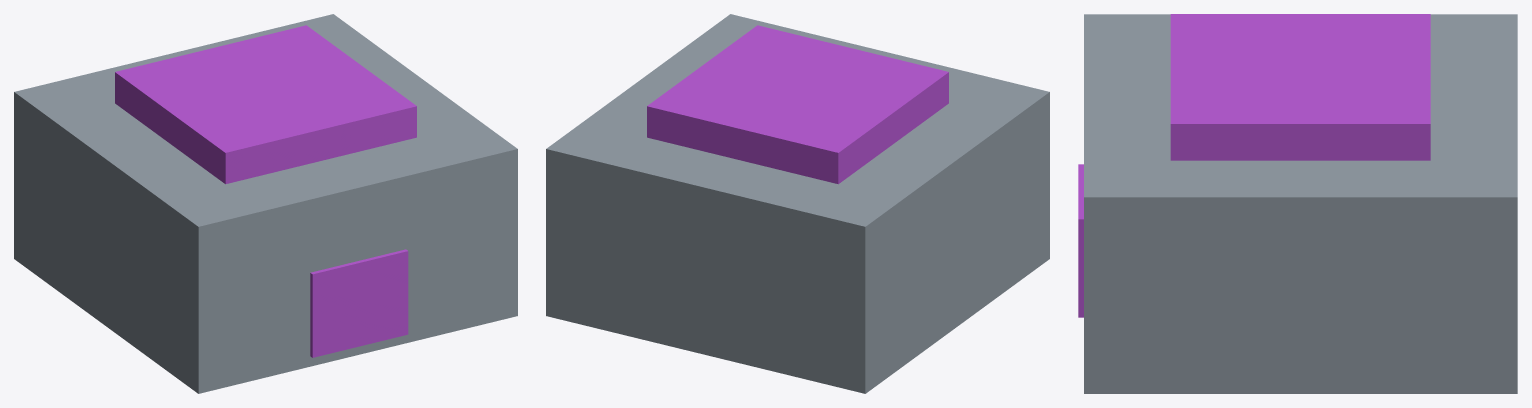
The model's file is SM_Chronolegion_CH_WarFactory_Blockout.fbx.
The picture shows the model from 3 angles, left to right: view 1: azimuth 30°, elevation 25°; view 2: azimuth 150°, elevation 25°; view 3: azimuth 270°, elevation 25°; orthographic projection. The views are drawn at different scales.
Visible parts, largest first — view 1: MainBuilding, RoofStructure, EntranceGate; view 2: MainBuilding, RoofStructure; view 3: MainBuilding, RoofStructure, EntranceGate.
Boxes of the visible parts, x1,y1,x2,y2 form: MainBuilding: (14,14,517,393); RoofStructure: (115,25,416,184); EntranceGate: (310,249,408,357); MainBuilding: (546,14,1049,393); RoofStructure: (647,25,948,184); MainBuilding: (1084,14,1517,393); RoofStructure: (1170,14,1430,160); EntranceGate: (1078,164,1083,317).
Size of the model in its own units: 800 by 475 by 810.
